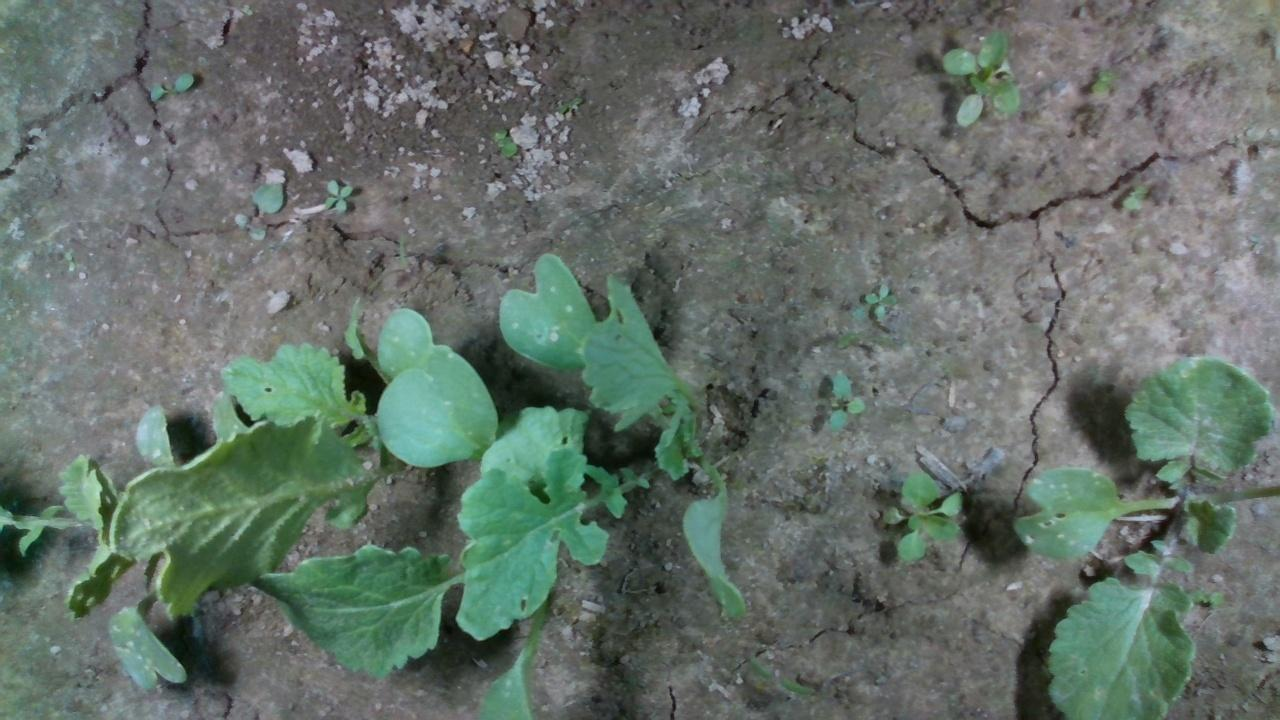weed: (822, 367, 864, 434), (142, 71, 207, 101), (321, 175, 358, 215), (860, 279, 889, 322)
